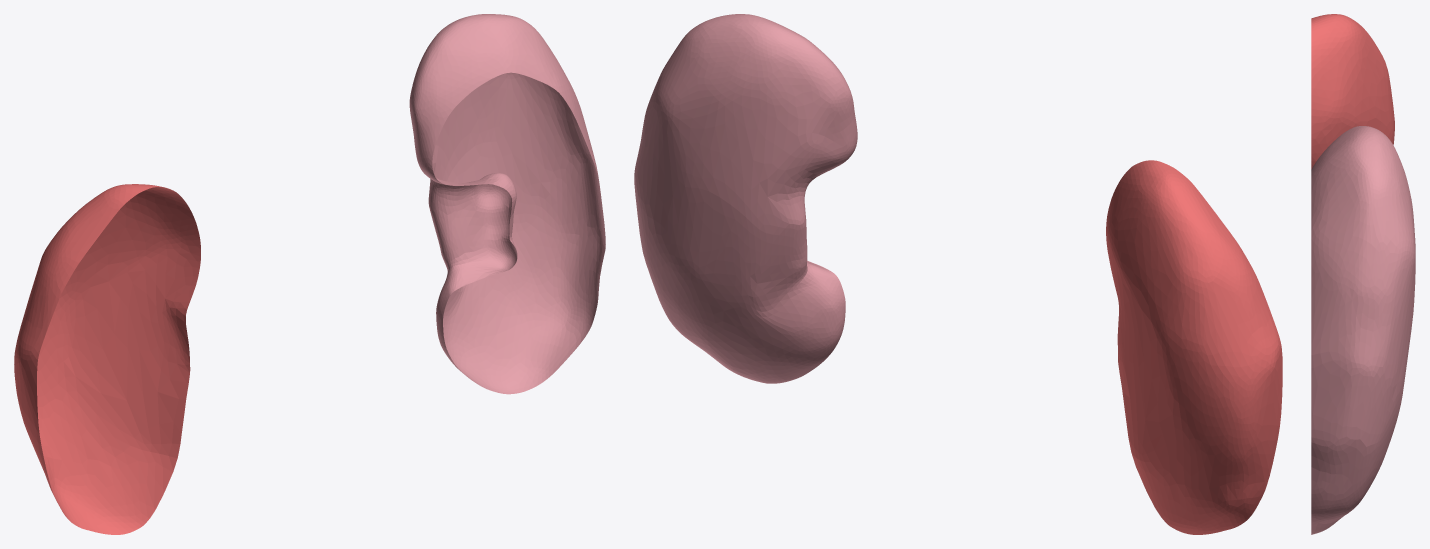
Rendered from reni_interno.glb.
3 views of the same model, side by side, from view 1: azimuth 30°, elevation 25°; view 2: azimuth 150°, elevation 25°; view 3: azimuth 270°, elevation 25° (orthographic). The views are drawn at different scales.
Visible parts, largest first — view 1: left kidney, right kidney; view 2: left kidney, right kidney; view 3: left kidney, right kidney.
Boxes of the visible parts, x1,y1,x2,y2 form: left kidney: [409, 14, 605, 394]; right kidney: [14, 184, 200, 534]; left kidney: [634, 14, 857, 383]; right kidney: [1106, 160, 1282, 534]; left kidney: [1311, 126, 1415, 534]; right kidney: [1311, 14, 1394, 168].
Bounding box in the file's own units: 178 × 119 × 26.02.
